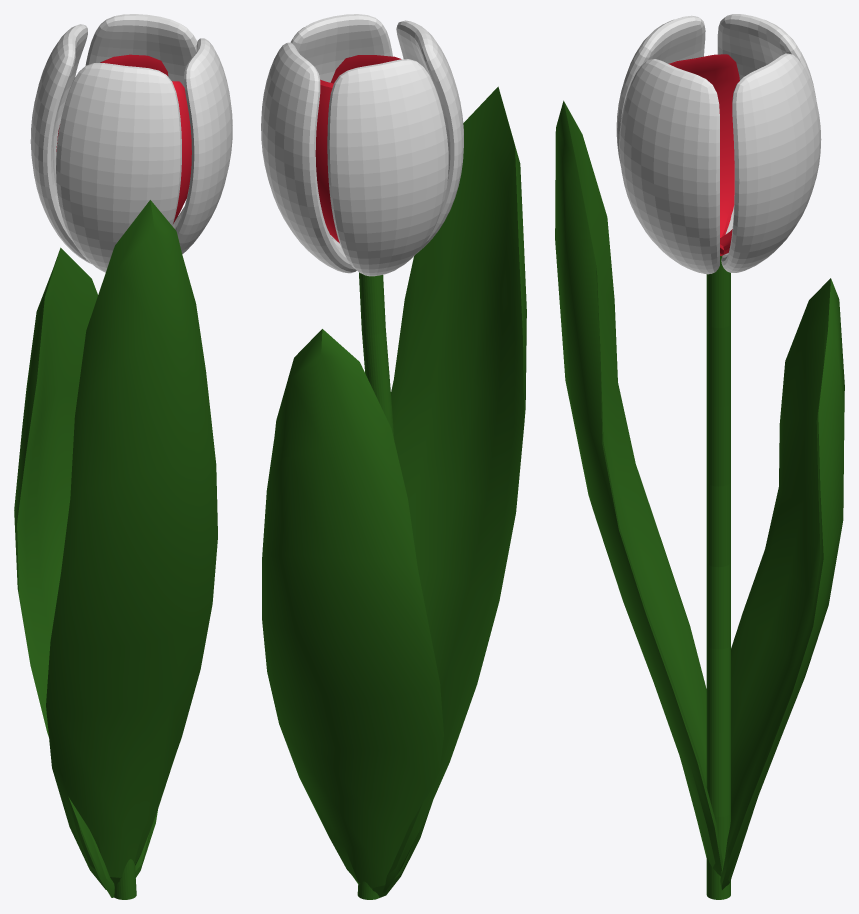
File: tulip2.gltf
The picture shows the model from 3 angles, left to right: view 1: azimuth 30°, elevation 25°; view 2: azimuth 150°, elevation 25°; view 3: azimuth 270°, elevation 25°; orthographic projection.
Visible parts, largest first — view 1: Plane, Sphere, Plane.001, Sphere.003, Sphere.002, Cylinder; view 2: Plane.001, Plane, Sphere, Cylinder, Sphere.002, Sphere.003; view 3: Sphere, Plane, Plane.001, Cylinder, Sphere.004.
Boxes of the visible parts, bbox=[...] form: Plane: bbox=[46, 200, 217, 889]; Sphere: bbox=[30, 14, 232, 272]; Plane.001: bbox=[14, 247, 157, 897]; Sphere.003: bbox=[172, 81, 191, 223]; Sphere.002: bbox=[100, 54, 168, 76]; Cylinder: bbox=[114, 859, 136, 899]; Plane.001: bbox=[262, 329, 443, 899]; Plane: bbox=[382, 86, 526, 892]; Sphere: bbox=[261, 14, 463, 276]; Cylinder: bbox=[357, 272, 394, 899]; Sphere.002: bbox=[315, 79, 339, 243]; Sphere.003: bbox=[330, 55, 401, 83]; Sphere: bbox=[616, 14, 821, 274]; Plane: bbox=[555, 100, 722, 876]; Plane.001: bbox=[720, 278, 844, 890]; Cylinder: bbox=[706, 256, 730, 899]; Sphere.004: bbox=[669, 54, 739, 237].
Size of the model in its own units: 2.06 by 8.41 by 2.57.
